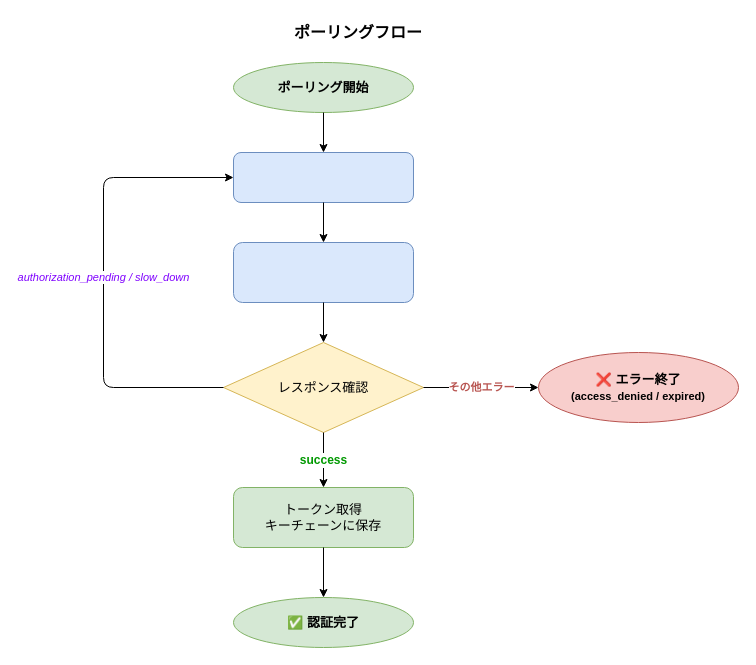
This 756x665 diagram has some shape labels left out. Here are the shapes that lost their labels. From the top down, the box of each, then its label:
(232, 152, 414, 202): interval 秒待機
(232, 242, 414, 302): POST /token (grant_type=device_code)
